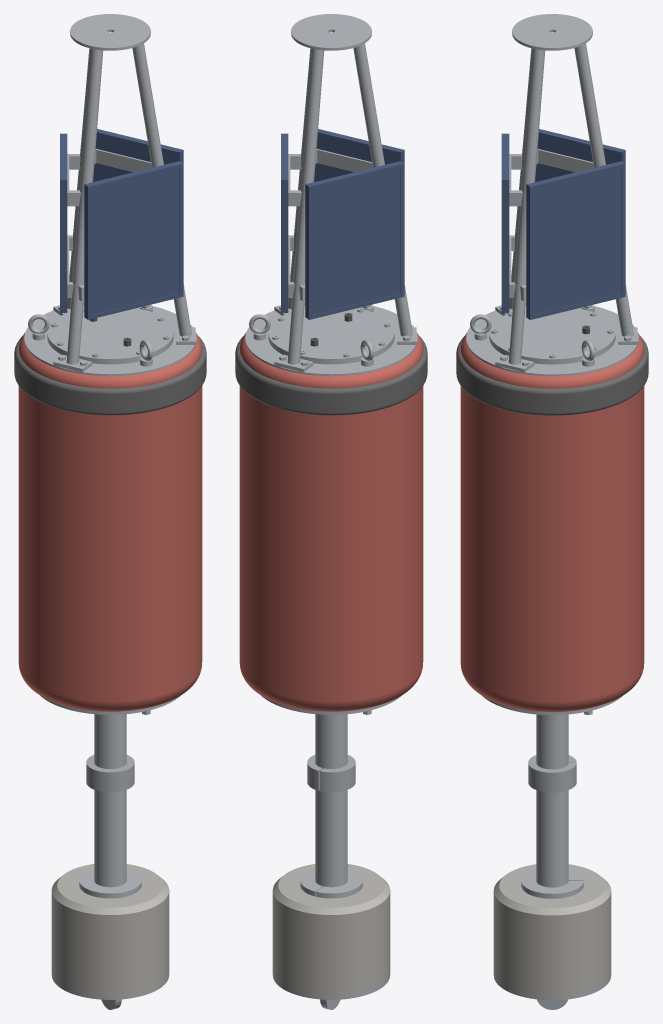
Rendered from step_04.glb.
3 views of the same model, side by side, from view 1: azimuth 30°, elevation 25°; view 2: azimuth 150°, elevation 25°; view 3: azimuth 270°, elevation 25° (orthographic).
Parts seen in each view (by area): view 1: part__float hull, part__solar panel 1, part__ballast ring, part__fender ring, part__tail tube, part__hatch lid, part__tripod leg 2, part__deck plate, part__mast top plate, part__tripod leg 3, part__solar panel 2, part__solar panel 3 (+6 smaller); view 2: part__float hull, part__solar panel 3, part__ballast ring, part__fender ring, part__tail tube, part__hatch lid, part__tripod leg 1, part__deck plate, part__mast top plate, part__tripod leg 2, part__solar panel 1, part__solar panel 2 (+6 smaller); view 3: part__float hull, part__solar panel 2, part__ballast ring, part__fender ring, part__tail tube, part__hatch lid, part__tripod leg 3, part__deck plate, part__mast top plate, part__tripod leg 1, part__solar panel 3, part__solar panel 1 (+6 smaller).
Part boxes in pixels (left/top/right/bottom): part__float hull: left=18, top=333, right=202, bottom=711; part__solar panel 1: left=84, top=161, right=183, bottom=319; part__ballast ring: left=51, top=864, right=169, bottom=996; part__fender ring: left=14, top=336, right=206, bottom=415; part__tail tube: left=51, top=714, right=169, bottom=999; part__hatch lid: left=47, top=308, right=173, bottom=361; part__tripod leg 2: left=53, top=48, right=103, bottom=372; part__deck plate: left=24, top=306, right=196, bottom=376; part__mast top plate: left=70, top=14, right=150, bottom=50; part__tripod leg 3: left=132, top=43, right=195, bottom=344; part__solar panel 2: left=93, top=129, right=183, bottom=181; part__solar panel 3: left=60, top=133, right=67, bottom=312; part__float hull: left=239, top=333, right=423, bottom=711; part__solar panel 3: left=305, top=161, right=404, bottom=319; part__ballast ring: left=272, top=864, right=390, bottom=996; part__fender ring: left=235, top=336, right=427, bottom=415; part__tail tube: left=272, top=714, right=390, bottom=999; part__hatch lid: left=268, top=308, right=394, bottom=361; part__tripod leg 1: left=274, top=48, right=324, bottom=372; part__deck plate: left=245, top=306, right=417, bottom=376; part__mast top plate: left=291, top=14, right=371, bottom=50; part__tripod leg 2: left=353, top=43, right=416, bottom=344; part__solar panel 1: left=314, top=129, right=404, bottom=181; part__solar panel 2: left=281, top=133, right=288, bottom=312; part__float hull: left=460, top=333, right=644, bottom=711; part__solar panel 2: left=526, top=161, right=625, bottom=319; part__ballast ring: left=493, top=864, right=611, bottom=996; part__fender ring: left=456, top=336, right=648, bottom=415; part__tail tube: left=493, top=714, right=611, bottom=1000; part__hatch lid: left=489, top=308, right=615, bottom=361; part__tripod leg 3: left=495, top=48, right=545, bottom=372; part__deck plate: left=466, top=306, right=638, bottom=376; part__mast top plate: left=512, top=14, right=592, bottom=50; part__tripod leg 1: left=574, top=43, right=637, bottom=344; part__solar panel 3: left=535, top=129, right=625, bottom=181; part__solar panel 1: left=501, top=133, right=509, bottom=313.
Bounding box in the file's own units: 524 × 2937 × 524.
